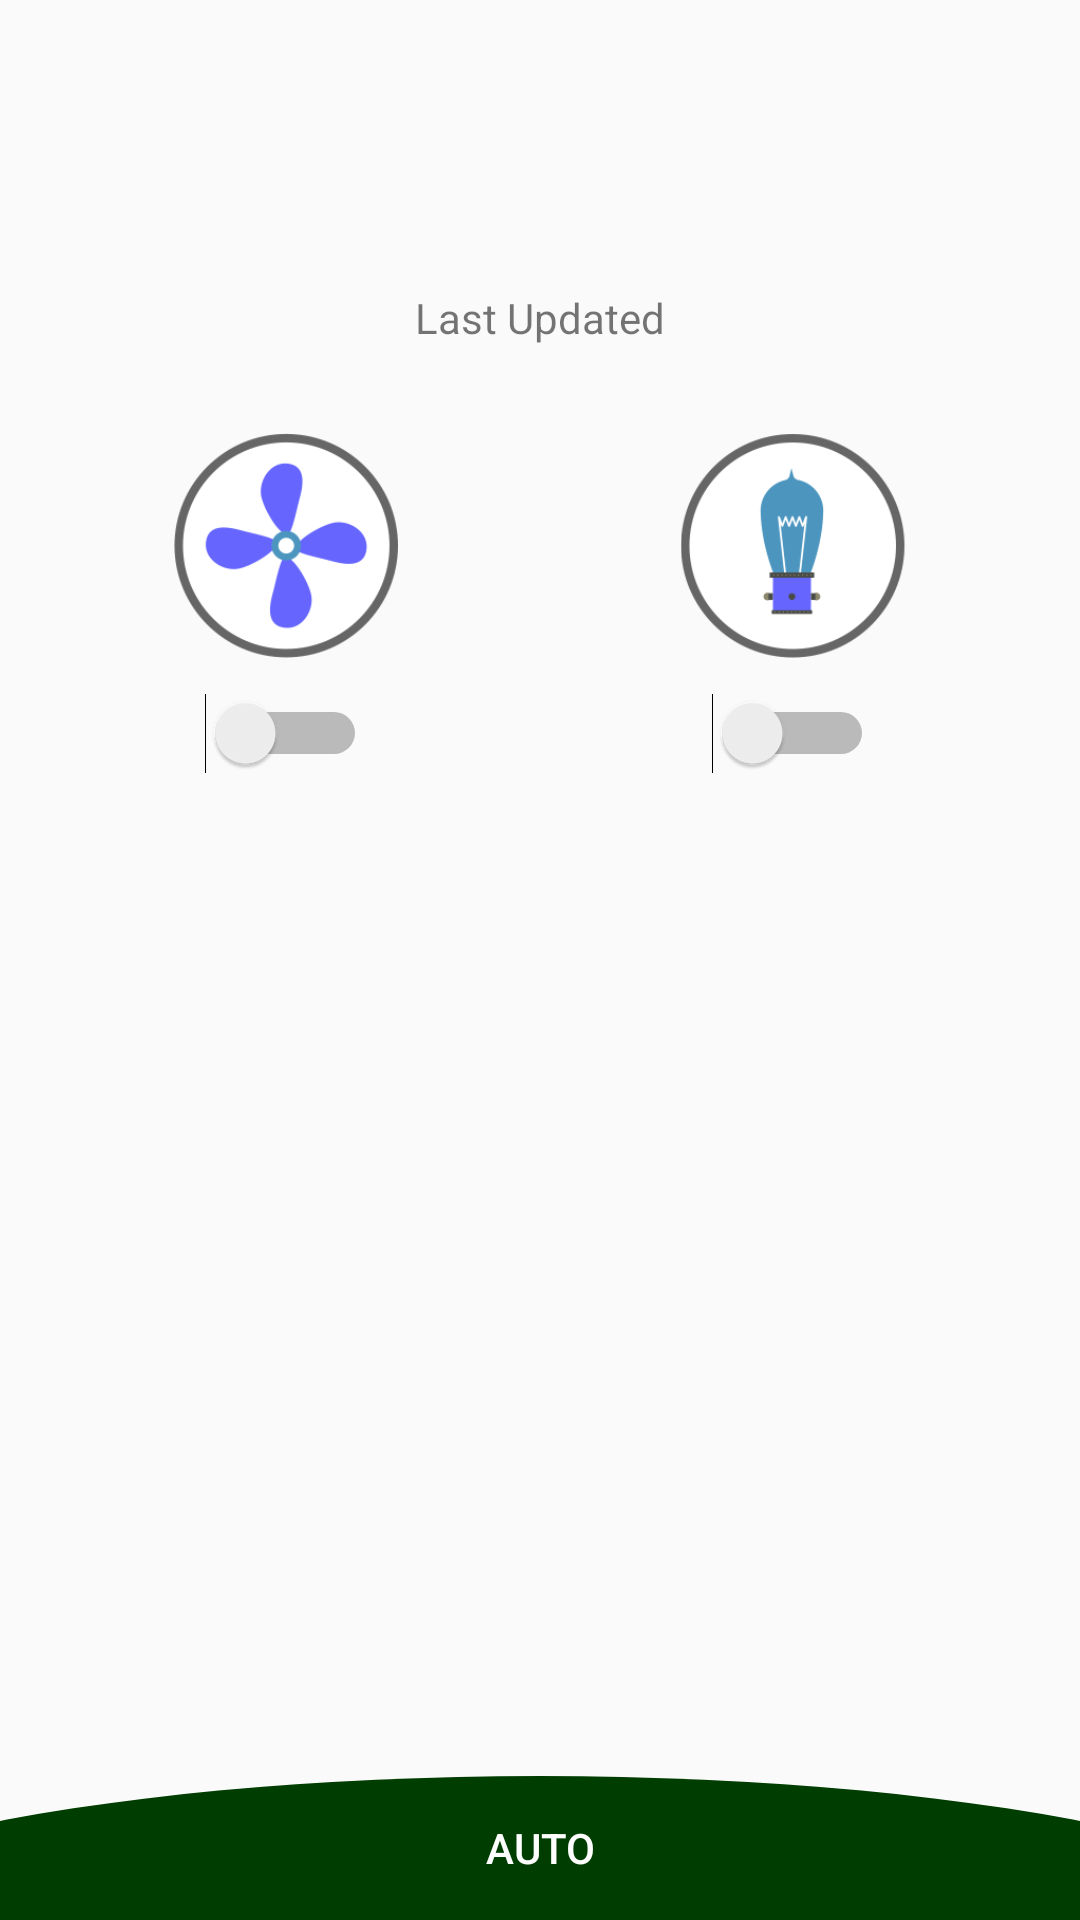

Icon click points for this 1080×1920 phone screenshot, format point (x, y):
coldfanoff: point (286, 546)
coldlampoff: point (793, 546)
